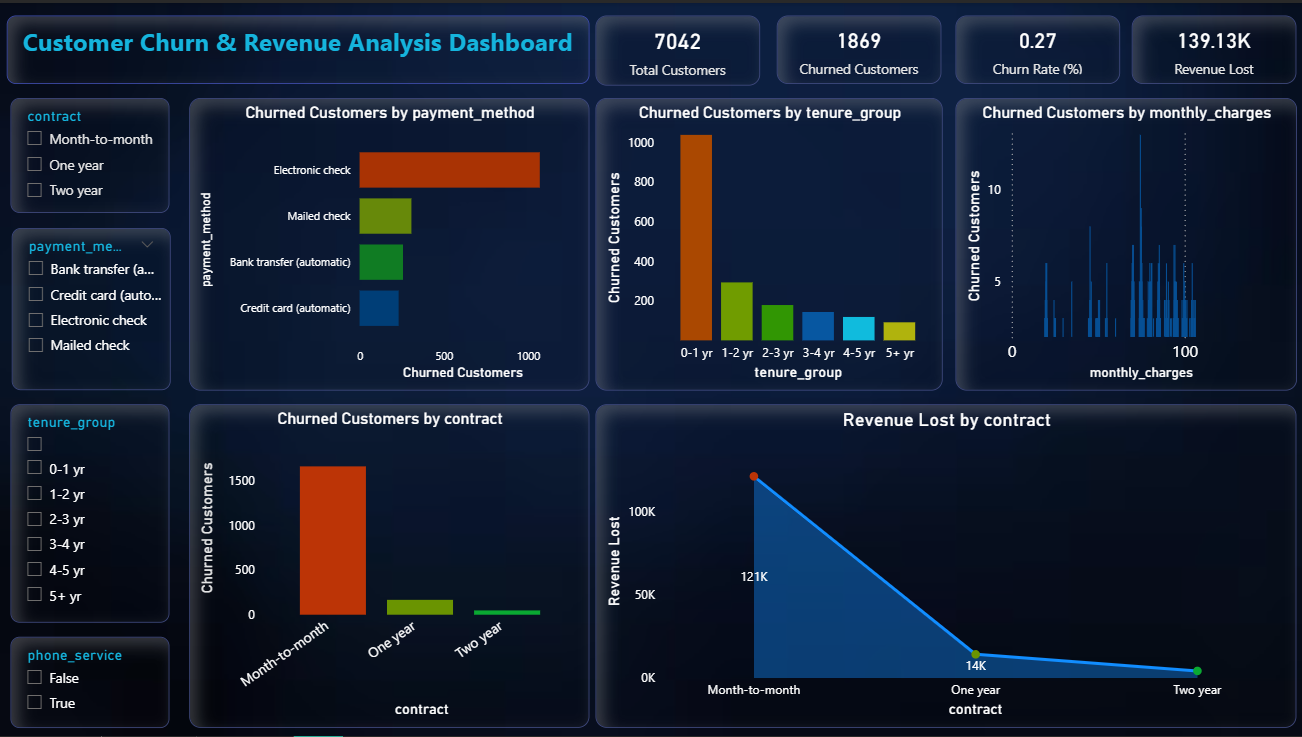

The dashboard page shown, as its layout file describes it:
{"tool":"powerbi","page":{"name":"Page 1","canvas":[1280,720],"ordinal":0},"visuals":[{"type":"slicer","fields":{"Values":["churn_final.contract"]},"box":[776.7,0,168.8,85.1],"z":0},{"type":"slicer","fields":{"Values":["churn_final.tenure_group"]},"box":[942.7,0,168.8,85.1],"z":1000},{"type":"slicer","fields":{"Values":["churn_final.payment_method"]},"box":[1111.5,0,168.8,85.1],"z":2000},{"type":"clusteredColumnChart","fields":{"Y":["churn_final.Revenue Lost"]},"box":[607.9,85.1,160.5,241.5],"z":3000},{"type":"textbox","box":[382.3,460.6,169,259],"z":4000},{"type":"textbox","box":[20,100.2,150,221],"z":5000},{"type":"textbox","box":[0,0,768.4,85.1],"z":6000},{"type":"clusteredColumnChart","fields":{"Y":["churn_final.Total Customers"]},"box":[0,85.1,140,241.5],"z":7000},{"type":"clusteredColumnChart","fields":{"Y":["churn_final.Churned Customers"]},"box":[289.5,85.1,157.8,241.5],"z":8000},{"type":"clusteredColumnChart","fields":{"Y":["churn_final.Churn Rate (%)"]},"box":[140,85.1,149.6,241.5],"z":9000},{"type":"clusteredColumnChart","fields":{"Y":["churn_final.Active Customers"]},"box":[447.3,85.1,160.5,241.5],"z":10000},{"type":"clusteredColumnChart","fields":{"Category":["churn_final.contract"],"Y":["churn_final.Churned Customers"]},"box":[776.7,85.1,503.6,286.8],"z":11000},{"type":"clusteredColumnChart","fields":{"Category":["churn_final.tenure_group"],"Y":["churn_final.Churned Customers"]},"box":[382.8,371.9,385.6,348.5],"z":12000},{"type":"clusteredColumnChart","fields":{"Category":["churn_final.payment_method"],"Y":["churn_final.Churned Customers"]},"box":[0,371.9,382.8,348.5],"z":13000},{"type":"clusteredColumnChart","fields":{"Category":["churn_final.contract"],"Y":["churn_final.Revenue Lost"]},"box":[776.7,371.9,503.6,348.5],"z":14000}]}

Visuals, with their boxes in screenshot pixels (x1, y1, x2, y2), scaled from the page's 1280x720 canvas onto the 1302x737 screenshot:
slicer - churn_final.contract: box=[790, 0, 962, 87]
slicer - churn_final.tenure_group: box=[959, 0, 1131, 87]
slicer - churn_final.payment_method: box=[1131, 0, 1301, 87]
clusteredColumnChart - churn_final.Revenue Lost: box=[618, 87, 782, 334]
textbox: box=[389, 471, 561, 736]
textbox: box=[20, 103, 173, 329]
textbox: box=[0, 0, 782, 87]
clusteredColumnChart - churn_final.Total Customers: box=[0, 87, 142, 334]
clusteredColumnChart - churn_final.Churned Customers: box=[294, 87, 455, 334]
clusteredColumnChart - churn_final.Churn Rate (%): box=[142, 87, 295, 334]
clusteredColumnChart - churn_final.Active Customers: box=[455, 87, 618, 334]
clusteredColumnChart - churn_final.contract x churn_final.Churned Customers: box=[790, 87, 1301, 381]
clusteredColumnChart - churn_final.tenure_group x churn_final.Churned Customers: box=[389, 381, 782, 736]
clusteredColumnChart - churn_final.payment_method x churn_final.Churned Customers: box=[0, 381, 389, 736]
clusteredColumnChart - churn_final.contract x churn_final.Revenue Lost: box=[790, 381, 1301, 736]
